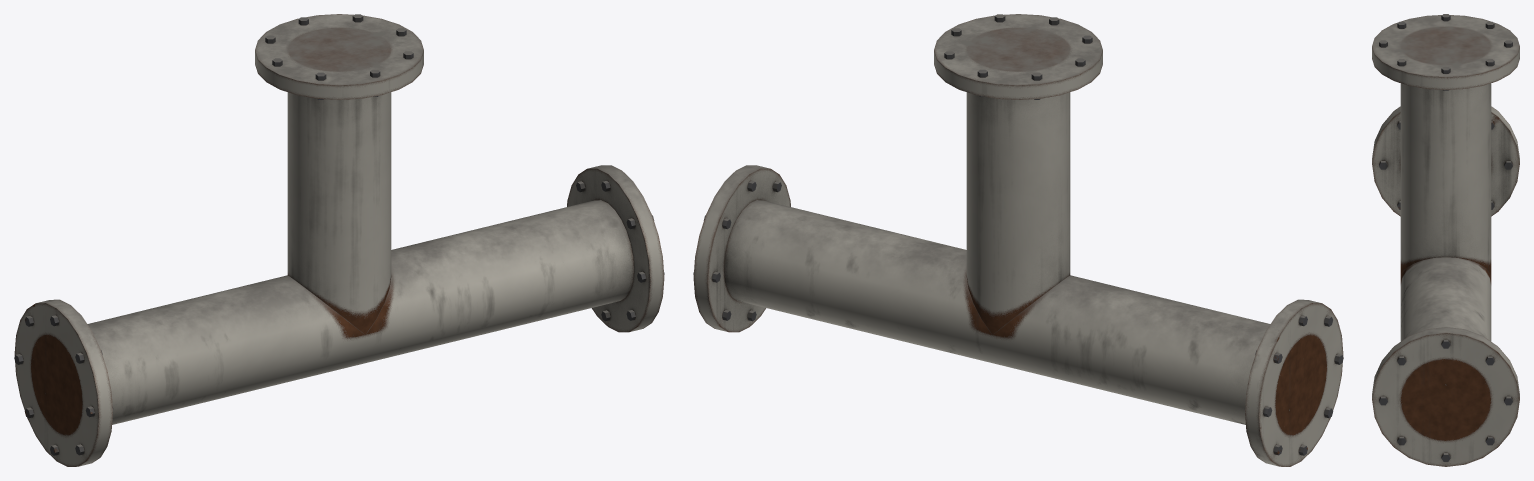
Rendered from SM_Pipe_Tee.fbx.
3 renders of one model, left to right at view 1: azimuth 30°, elevation 25°; view 2: azimuth 150°, elevation 25°; view 3: azimuth 270°, elevation 25°, orthographic. The views are drawn at different scales.
Visible parts, largest first — view 1: SM_Pipe_Tee; view 2: SM_Pipe_Tee; view 3: SM_Pipe_Tee.
Part boxes in pixels (left/top/right/bottom): SM_Pipe_Tee: left=14, top=14, right=664, bottom=466; SM_Pipe_Tee: left=693, top=14, right=1343, bottom=466; SM_Pipe_Tee: left=1372, top=14, right=1519, bottom=466.
Size of the model in its own units: 1.02 by 0.59 by 0.26.
Materials: 1 (1 with a texture image).
